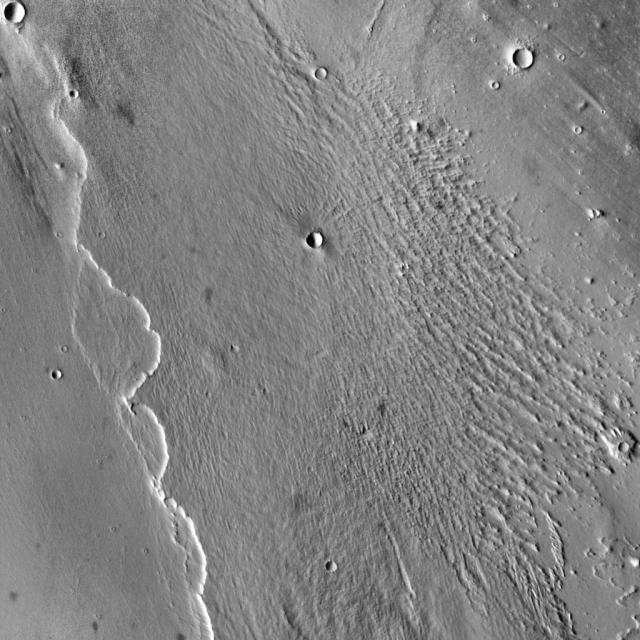crater: (518, 51, 540, 73), (10, 6, 31, 27), (313, 234, 330, 252), (319, 70, 332, 82), (331, 564, 342, 575), (58, 374, 68, 384), (76, 94, 85, 102), (626, 446, 634, 454), (574, 122, 582, 130), (236, 346, 244, 354), (491, 77, 498, 84), (97, 230, 103, 236)
